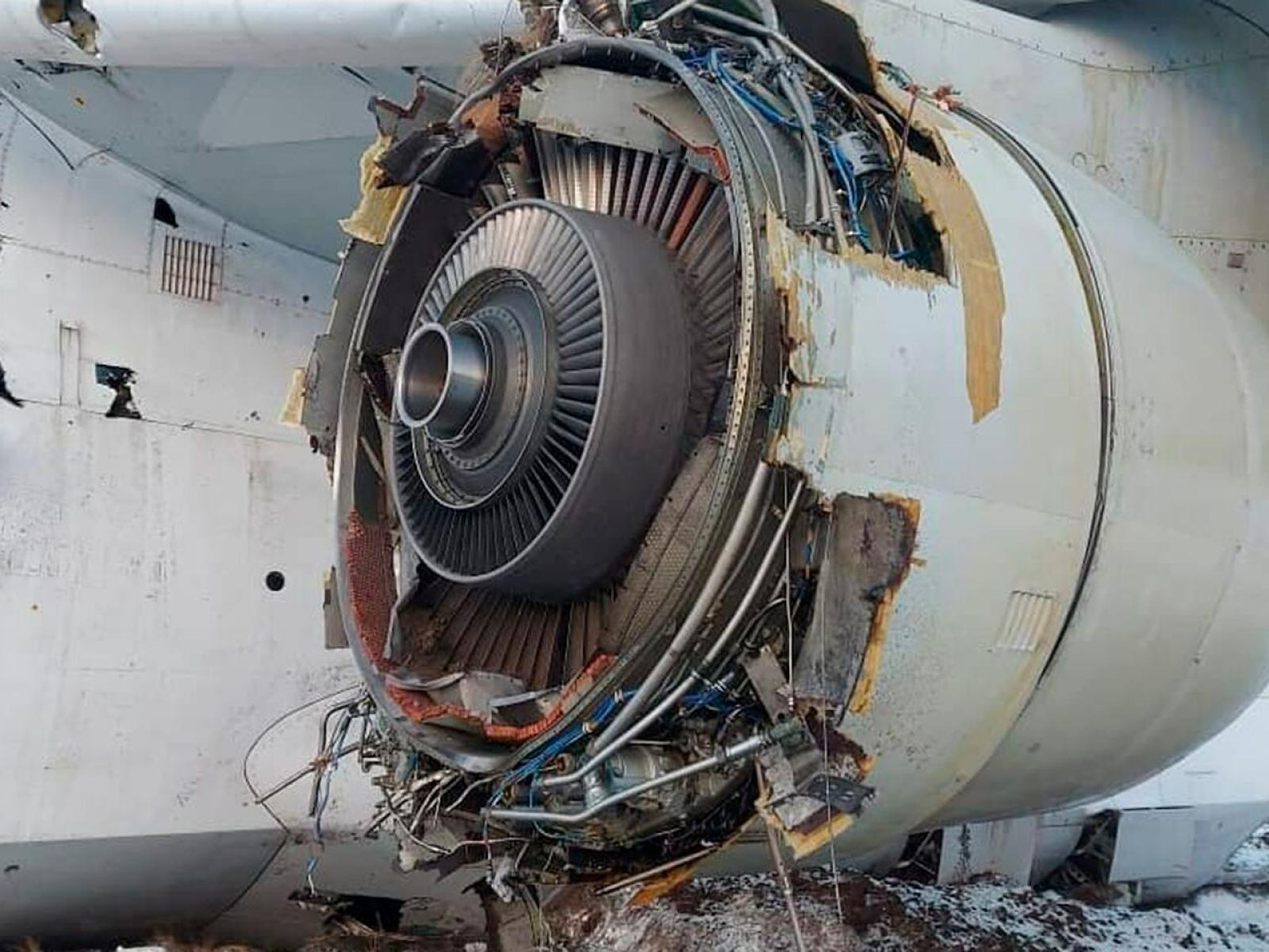Engine_damage: (286, 0, 1243, 904), (486, 469, 813, 849)
Fuselage_damage: (96, 362, 141, 418), (152, 196, 178, 228)
Skin_Cover: (792, 493, 918, 726), (908, 160, 1004, 421)
Wing_damage: (794, 66, 948, 279), (691, 46, 801, 140), (37, 0, 97, 54)
